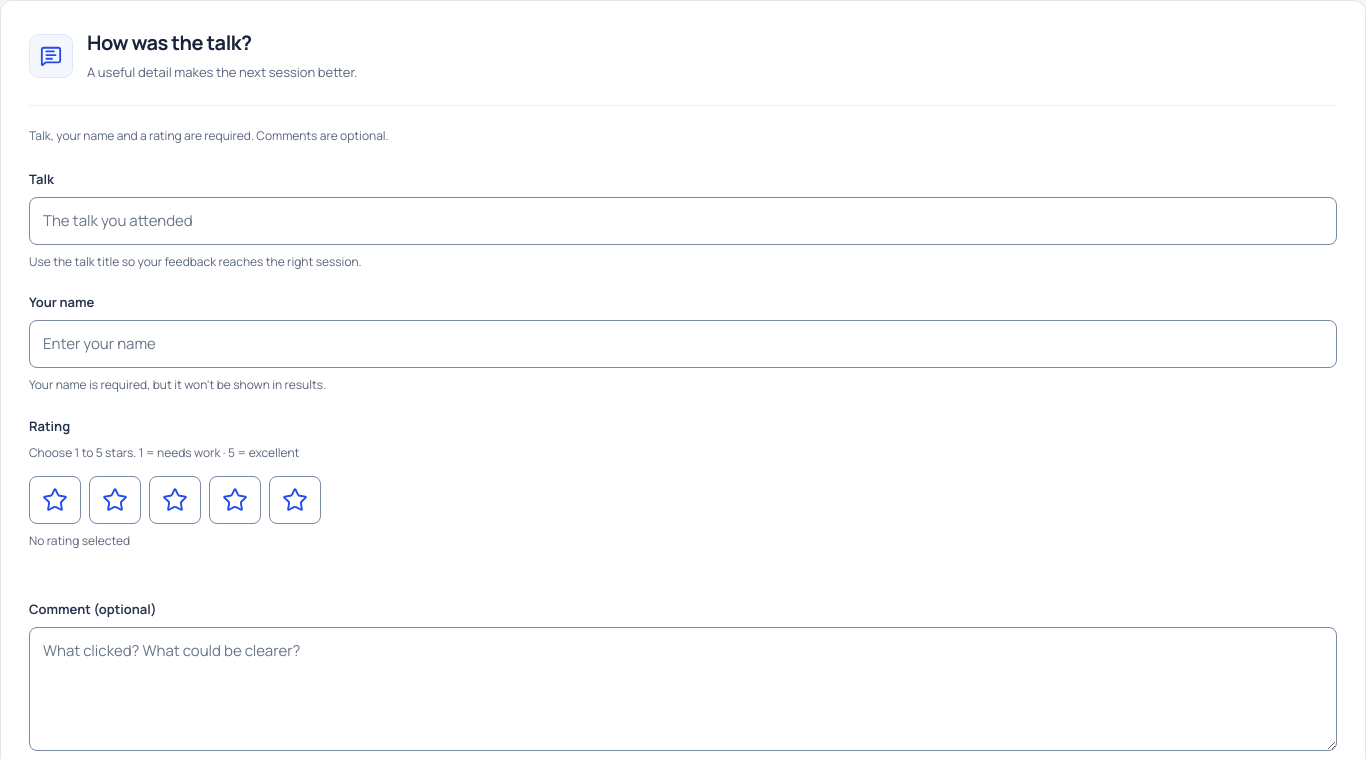
Test: previews pointer stars without committing and restores the selected rating on leave
This screenshot has width=1366, height=759.
Step 1. Click the radio button named "2 stars" → (115, 500), box 89,476 -> 141,524
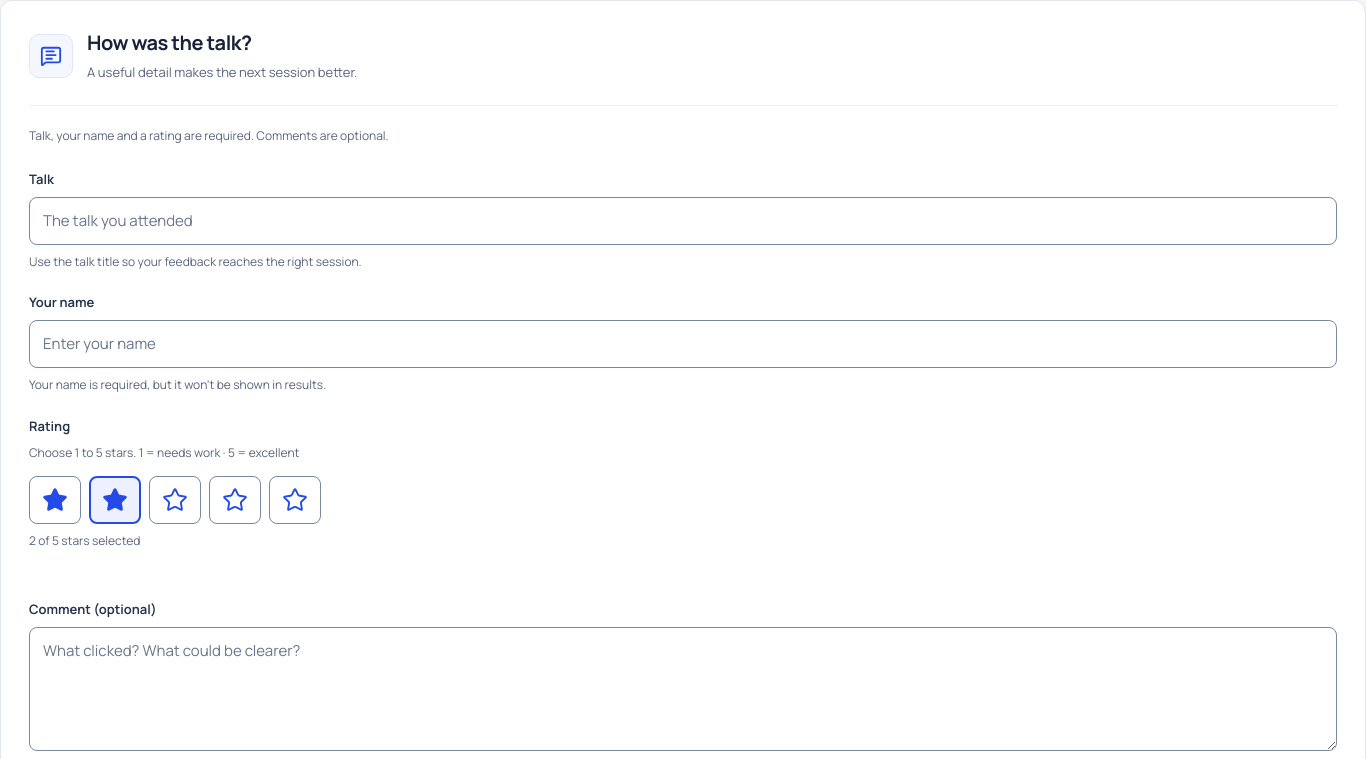
Step 2. Hover over the 5th radio button named "5 stars" → (295, 500), box 269,476 -> 321,524
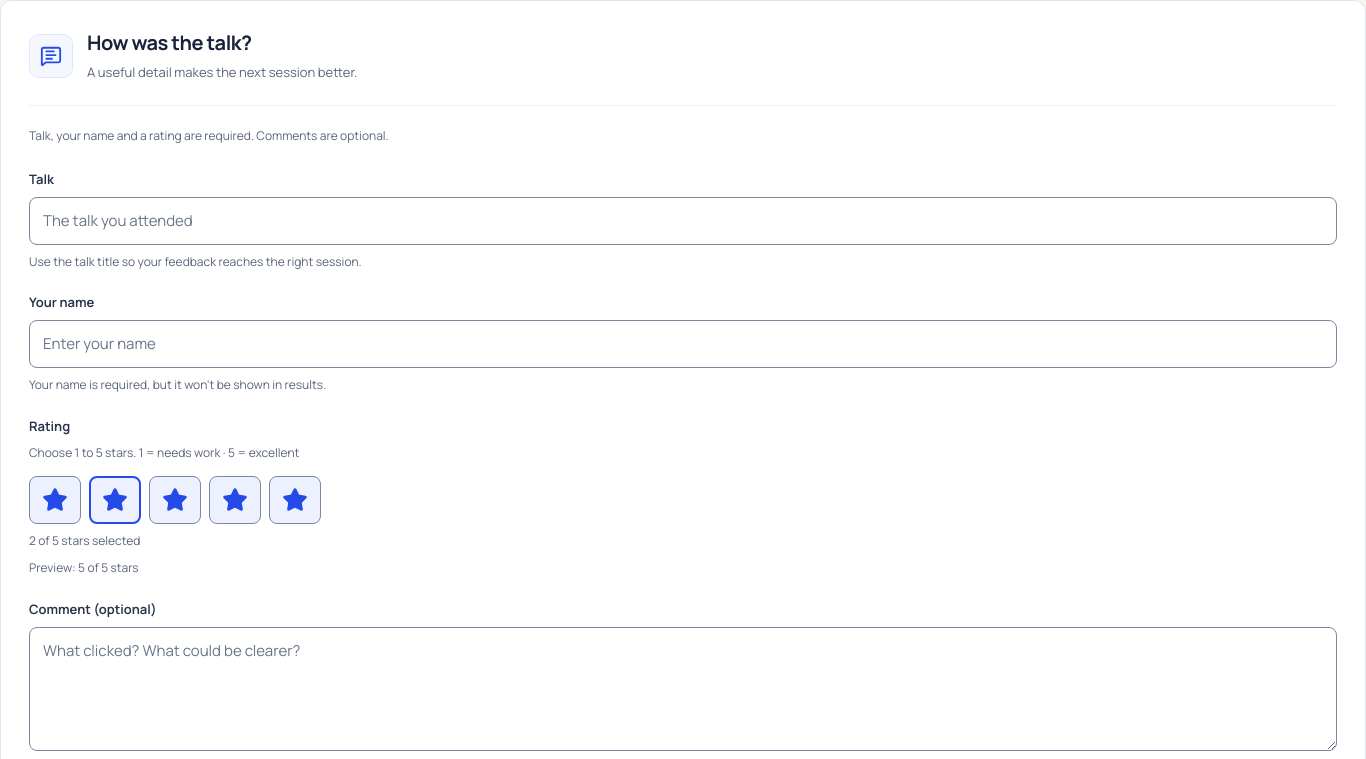
Now the radio button named "2 stars" is checked, box 89,476 -> 141,524
Now the text "Preview: 5 of 5 stars" is shown, box 29,559 -> 139,576
Step 3. Move the pointer off the element named "5 stars", box 29,476 -> 321,524
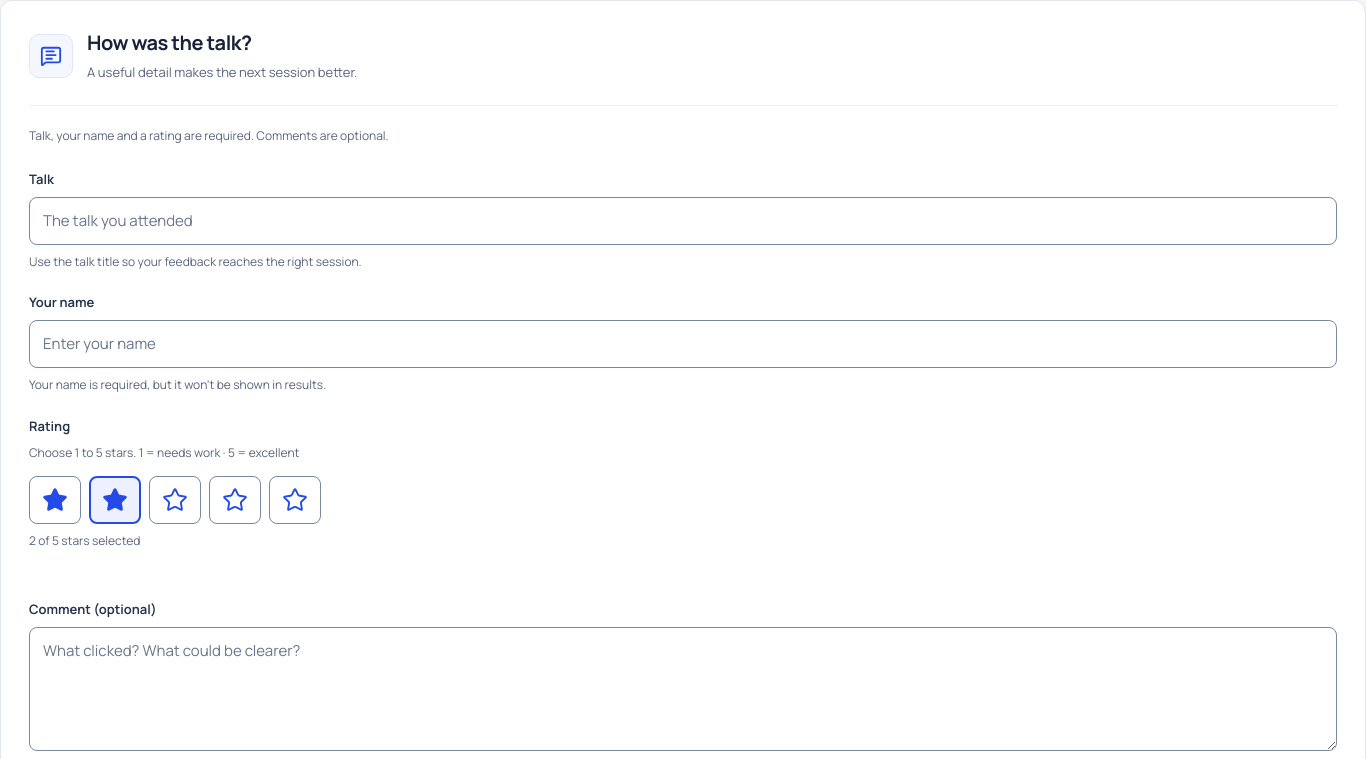
Now the text "2 of 5 stars selected" is shown, box 29,532 -> 140,549
Now the text "Preview: 5 of 5 stars" is gone
